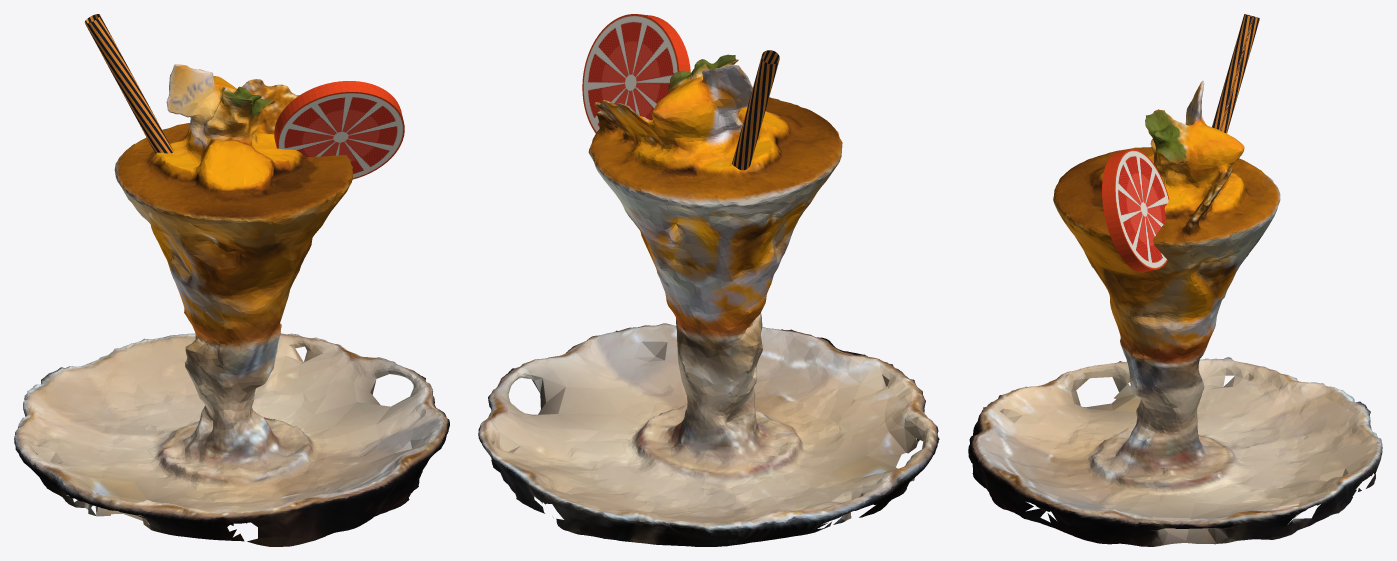
Rendered from drink-sunset-spritz.glb.
3 renders of one model, left to right at view 1: azimuth 30°, elevation 25°; view 2: azimuth 150°, elevation 25°; view 3: azimuth 270°, elevation 25°, orthographic. The views are drawn at different scales.
Parts seen in each view (by area): view 1: glass, garnish; view 2: glass, garnish; view 3: glass, garnish.
Part boxes in pixels (x1,y1,x2,y2): glass: [14, 64, 449, 546]; garnish: [84, 14, 404, 179]; glass: [478, 54, 939, 546]; garnish: [582, 14, 779, 170]; glass: [968, 81, 1382, 546]; garnish: [1102, 14, 1259, 272].
Size of the model in its own units: 0.1754 by 0.1933 by 0.1768.
Materials: 2 (2 with a texture image).
